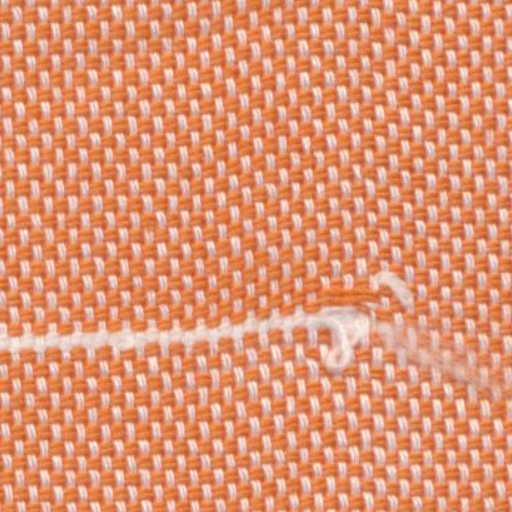DuanSha: (293, 259, 490, 419)
